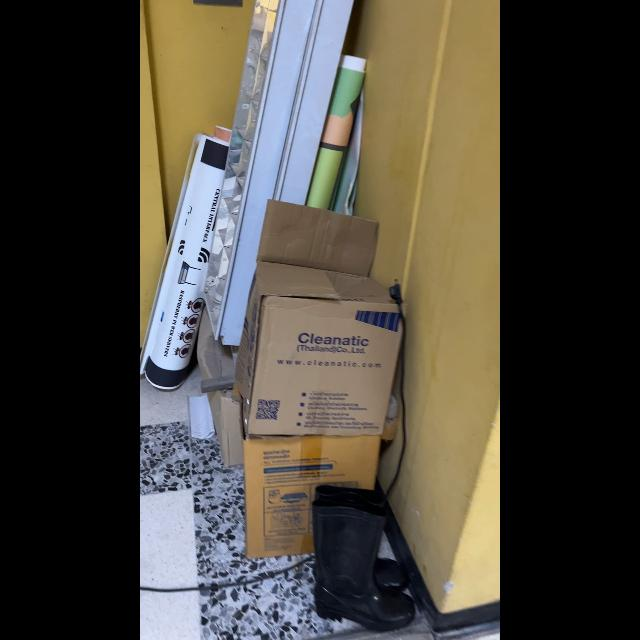cardboard_box: (245, 197, 403, 437), (230, 414, 384, 568)
